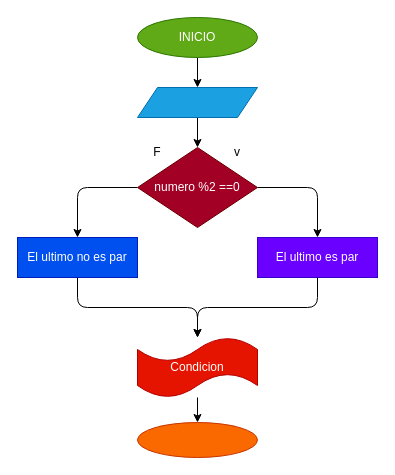
Image size: 395x475. Some labels were removed from this diagram. Each missing label, with the centre of its shape:
"FIN" goes at (197,440).
"numero" goes at (197,102).
